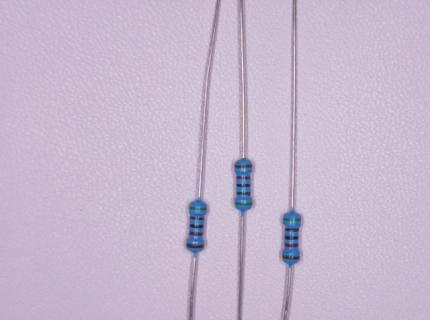Black band: (189, 224, 204, 228), (285, 236, 298, 240), (236, 184, 250, 187)
Brown band: (186, 243, 204, 248), (282, 255, 300, 260), (189, 216, 204, 221), (235, 164, 253, 168), (236, 192, 251, 196), (285, 228, 299, 232)
Green band: (189, 206, 207, 211), (283, 218, 301, 222), (235, 202, 252, 206)
Red band: (189, 230, 203, 237), (237, 176, 251, 180), (284, 243, 298, 247)
